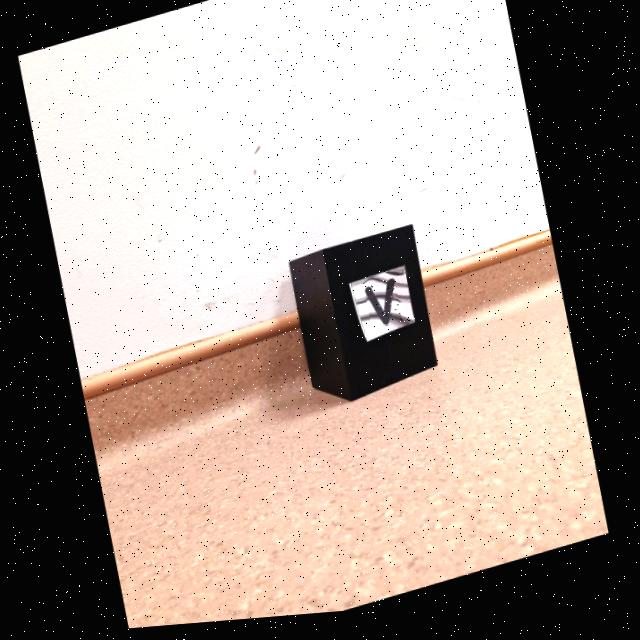V: (366, 285, 396, 332)
